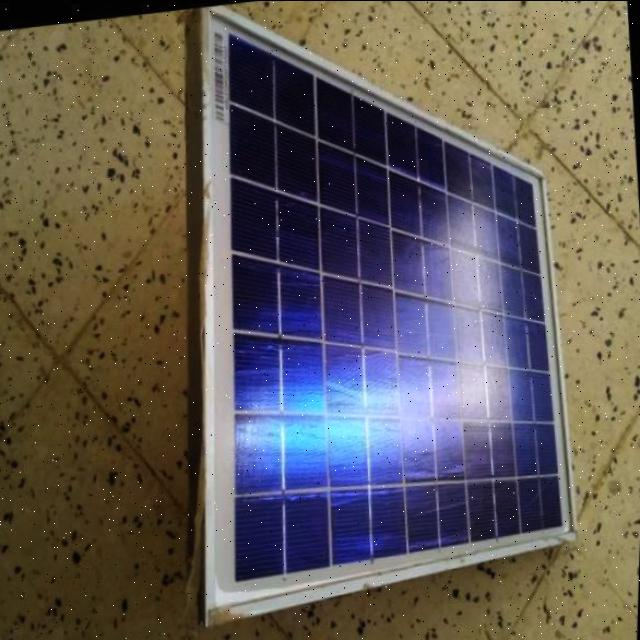Normal Solar Panel: (153, 0, 598, 624)
